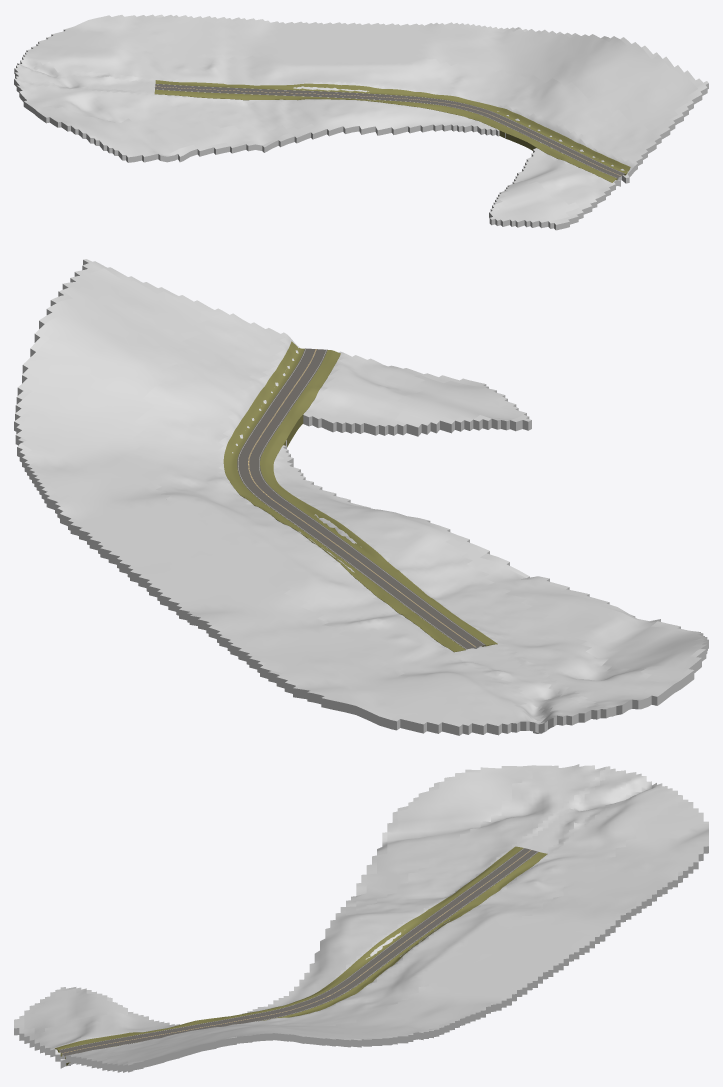
File: conz_36.glb
3 renders of one model, top to bottom at view 1: azimuth 30°, elevation 25°; view 2: azimuth 150°, elevation 25°; view 3: azimuth 270°, elevation 25°, orthographic. The views are drawn at different scales.
Visible parts, largest first — view 1: terrain36, road36, verge36L, verge36R; view 2: terrain36, road36, verge36R, verge36L, paint_white36; view 3: terrain36, road36, verge36R, verge36L.
Part boxes in pixels (bbox=[...]): terrain36: bbox=[14, 14, 708, 230]; road36: bbox=[155, 84, 624, 177]; verge36L: bbox=[155, 80, 630, 175]; verge36R: bbox=[154, 89, 617, 182]; terrain36: bbox=[14, 259, 708, 735]; road36: bbox=[237, 348, 485, 649]; verge36R: bbox=[260, 350, 497, 646]; verge36L: bbox=[223, 341, 465, 652]; paint_white36: bbox=[238, 348, 484, 648]; terrain36: bbox=[14, 764, 708, 1072]; road36: bbox=[59, 848, 538, 1056]; verge36R: bbox=[55, 846, 523, 1056]; verge36L: bbox=[65, 852, 547, 1065].
Bounding box in the file's own units: 292 × 42.09 × 268.
